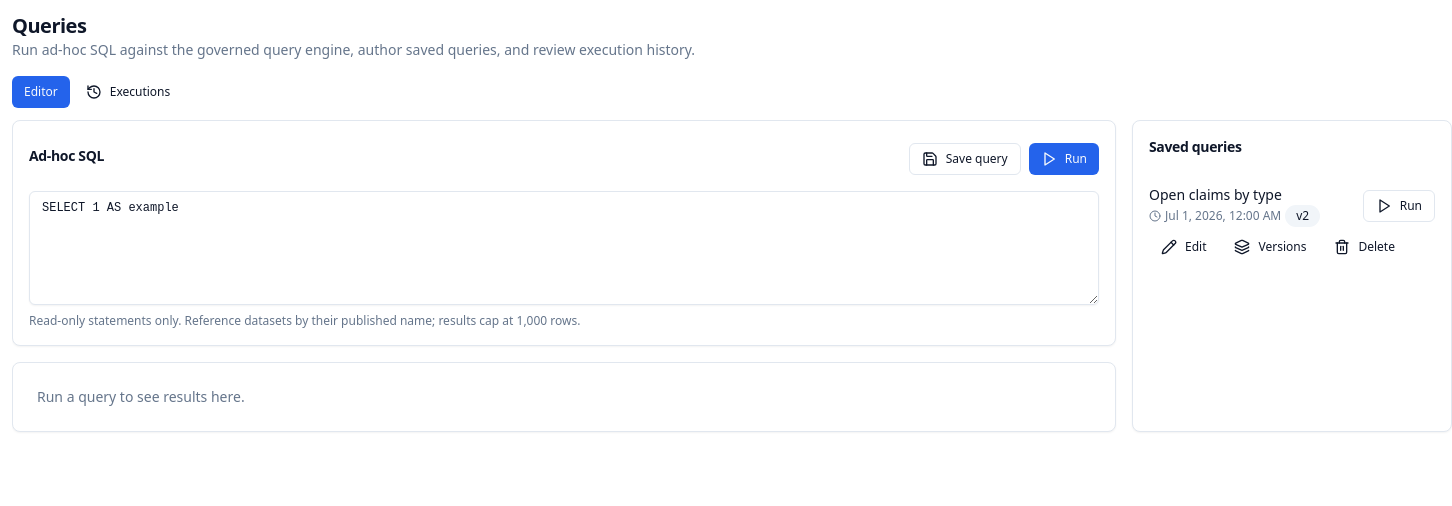
Test: Queries page › runs ad-hoc SQL and renders the returned columns + rows
The image size is (1452, 506).
// The primary Run button executes the ad-hoc editor content.
Step 1. Click the 1st button "Run" → click(1064, 159), box [1029,143,1099,175]
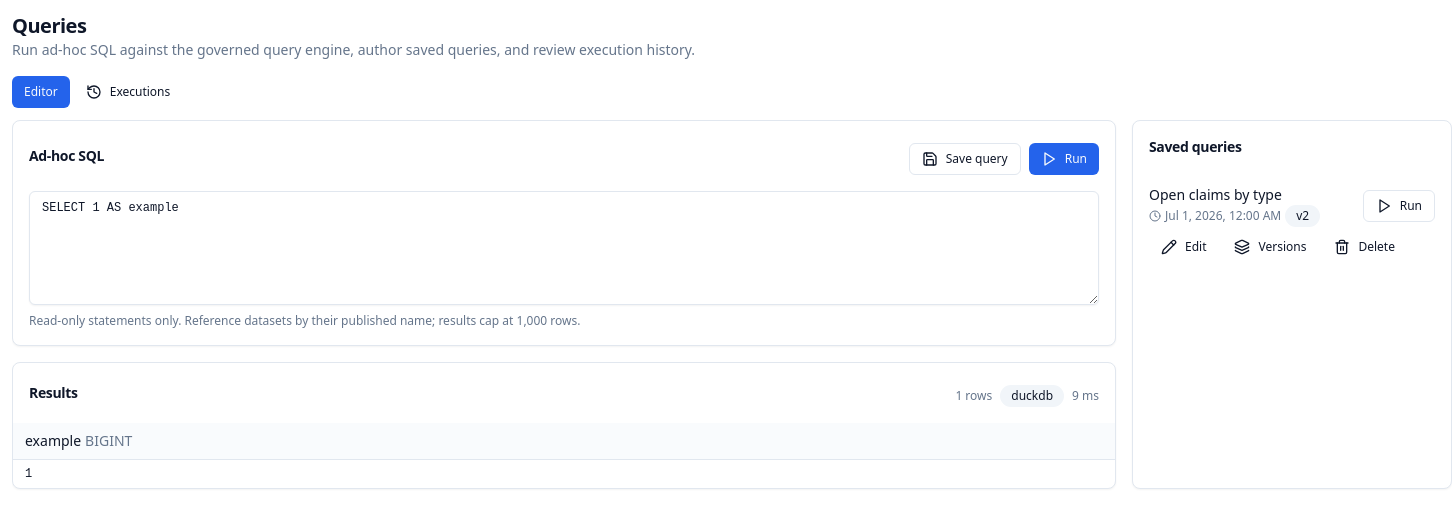
Expected: the column heading "example" is shown, [25,431,81,450]
Expected: the text "1" is shown, [13,460,1115,488]
Expected: the text "duckdb" is shown, [1000,385,1064,407]
